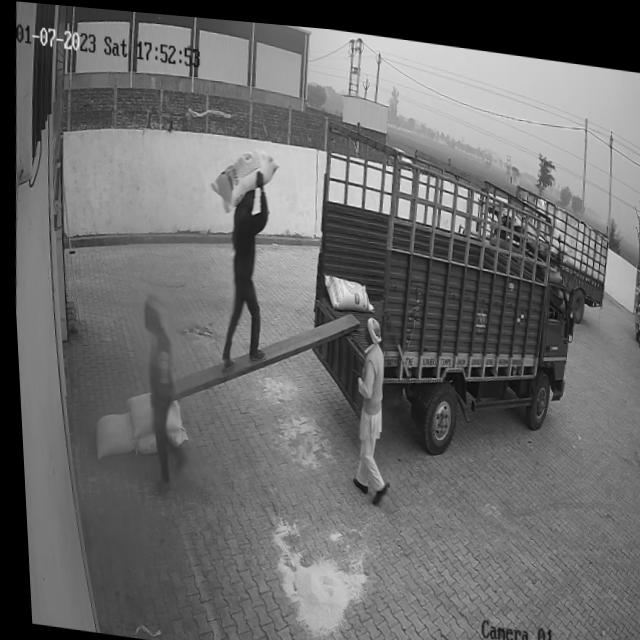sack: (207, 138, 280, 215), (88, 405, 131, 460), (319, 267, 373, 308), (121, 387, 150, 437), (130, 433, 153, 454)
